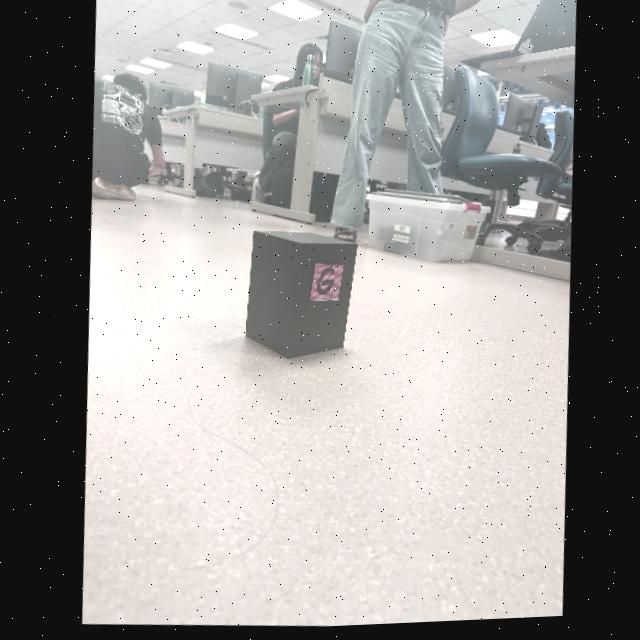G: (315, 271, 333, 297)
